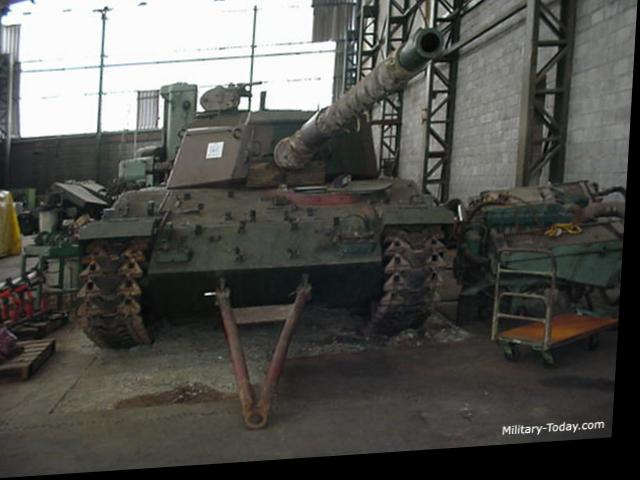tank: (63, 88, 504, 361)
